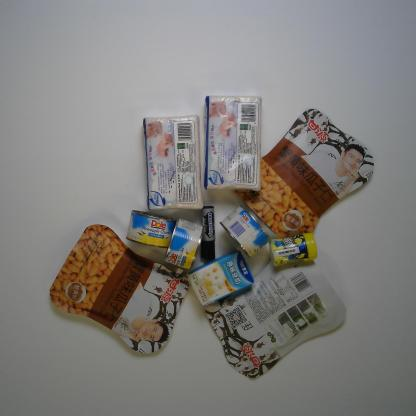Canned Food: (216, 203, 273, 261), (162, 214, 205, 271), (124, 209, 180, 250)
Dried Fruit: (227, 104, 378, 242), (47, 222, 190, 357), (200, 256, 348, 380)
Gum: (267, 229, 319, 268)
Milk: (185, 248, 257, 308)
Stationery: (198, 203, 218, 267)
Tissue: (138, 111, 208, 215), (201, 91, 265, 195)
